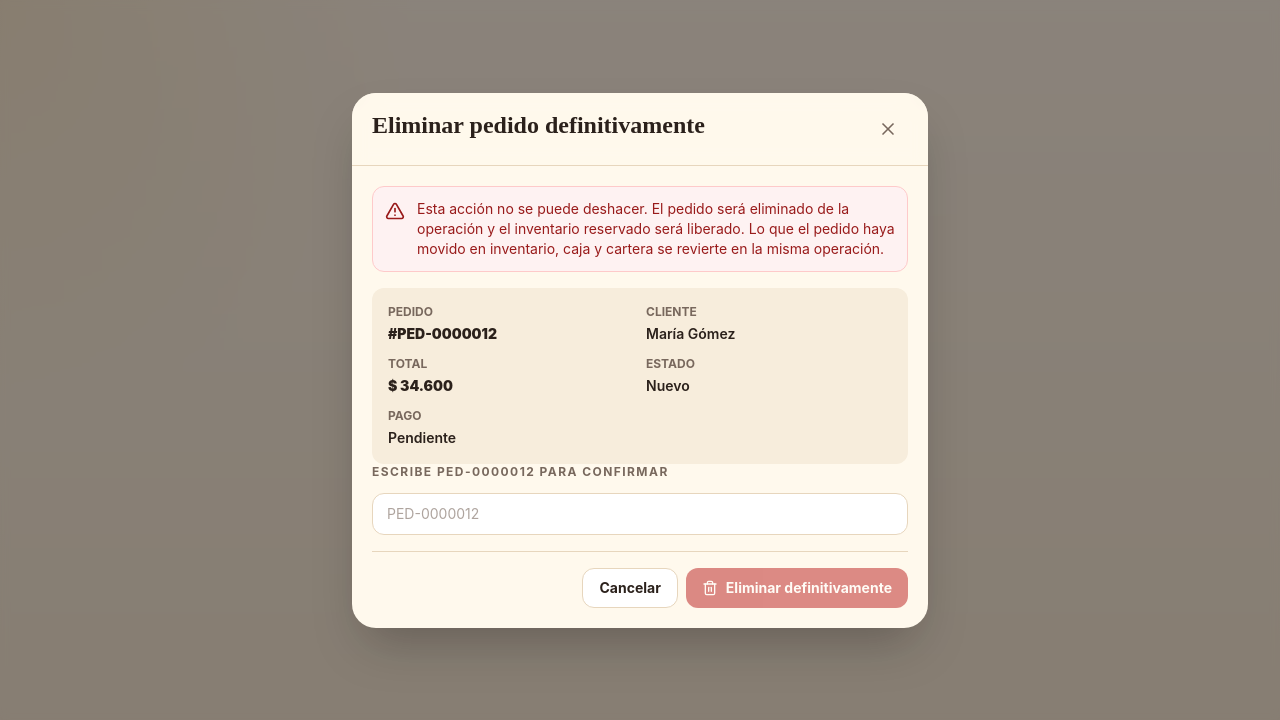
Test case: DeleteOrderModal › mantiene el botón deshabilitado mientras el texto no coincida
The image size is (1280, 720).
Expected: the button "Eliminar definitivamente" is disabled, [686,568,908,608]
Type "PED-000001" into the field labelled "Escribe PED-0000012 para confirmar" at (640, 514), box [372,492,908,534]
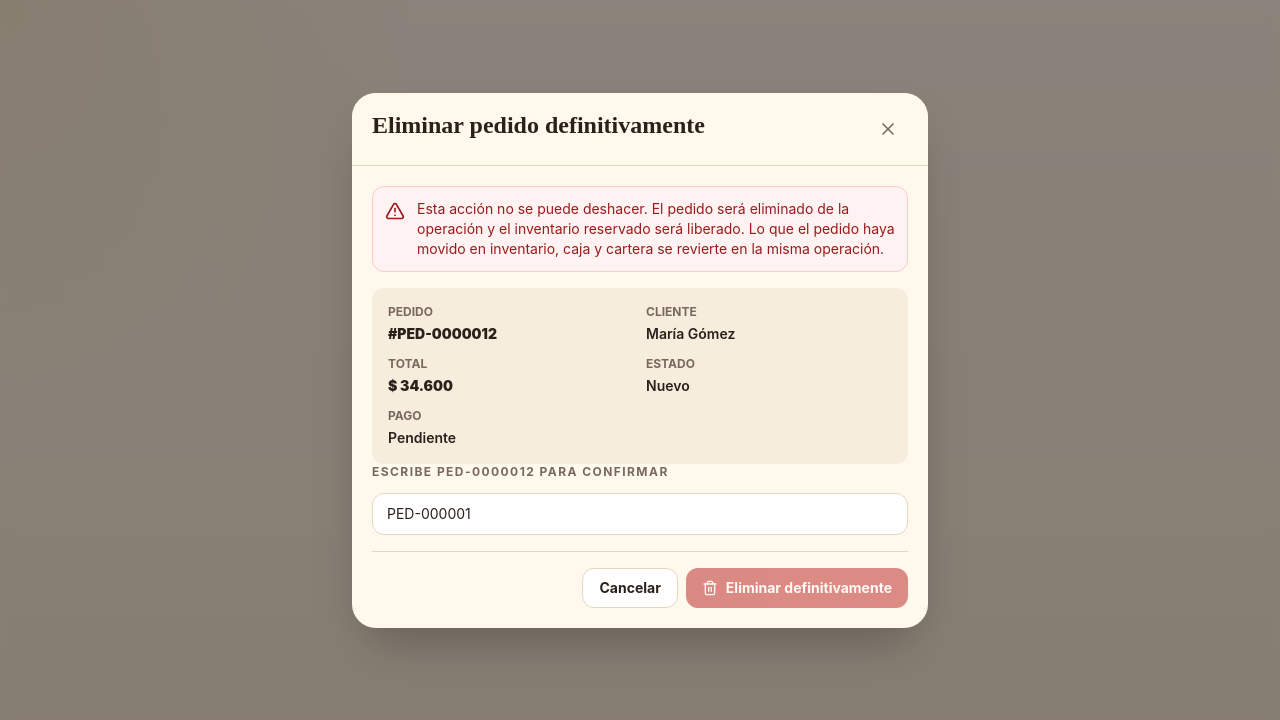
Expected: the button "Eliminar definitivamente" is disabled, [686,568,908,608]
Replace the text in the field labelled "Escribe PED-0000012 para confirmar" with "ped-0000012" at (640, 514), box [372,492,908,534]
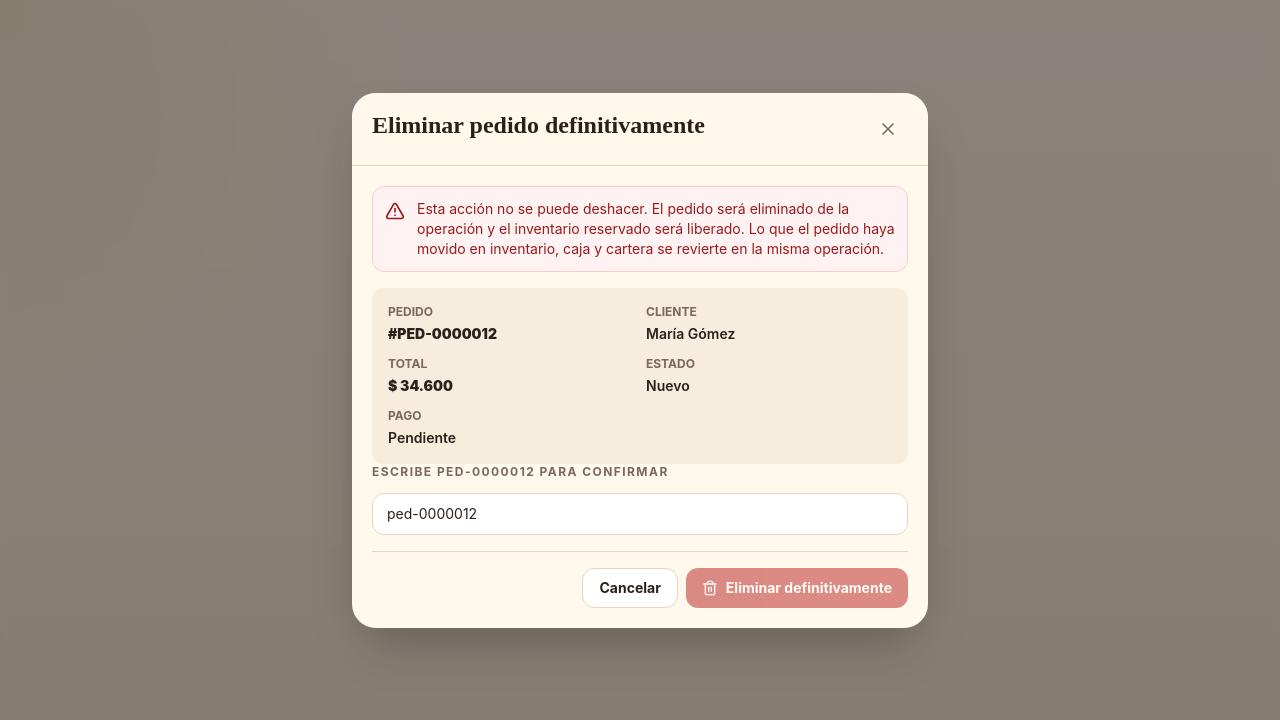
Expected: the button "Eliminar definitivamente" is disabled, [686,568,908,608]
Replace the text in the field labelled "Escribe PED-0000012 para confirmar" with "PED-0000013" at (640, 514), box [372,492,908,534]
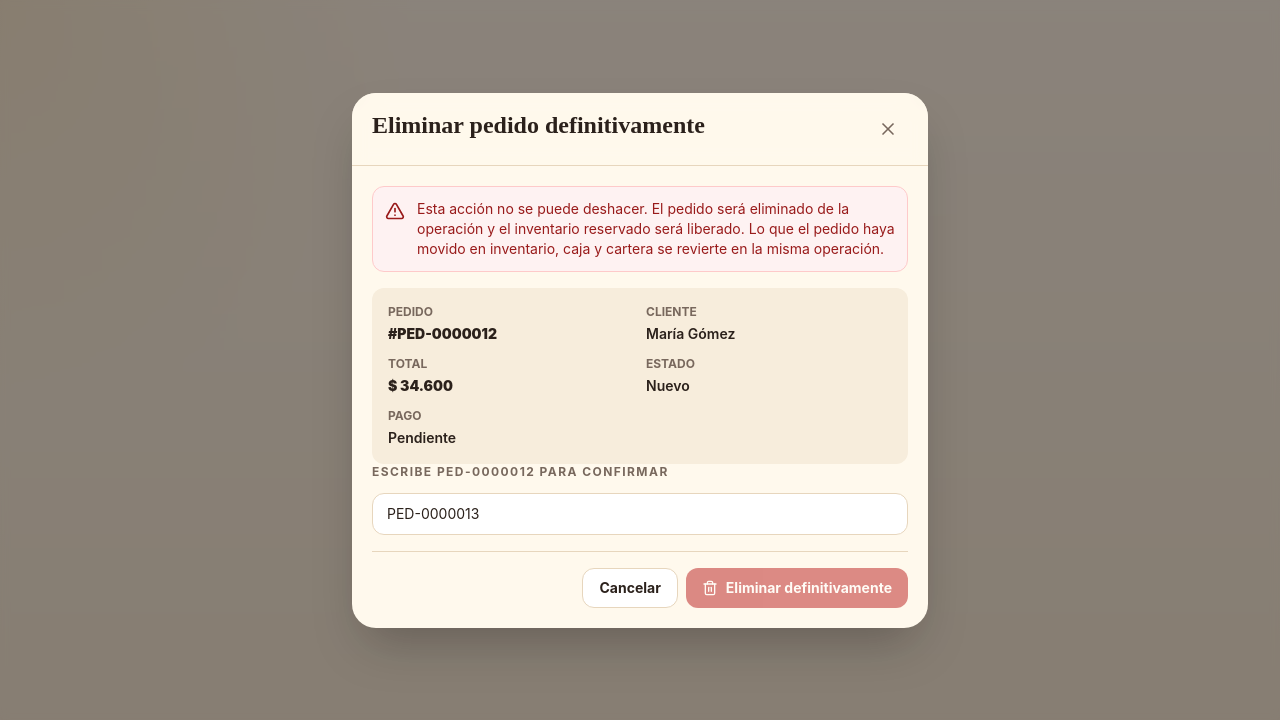
Expected: the button "Eliminar definitivamente" is disabled, [686,568,908,608]
Replace the text in the field labelled "Escribe PED-0000012 para confirmar" with "PED-0000012" at (640, 514), box [372,492,908,534]
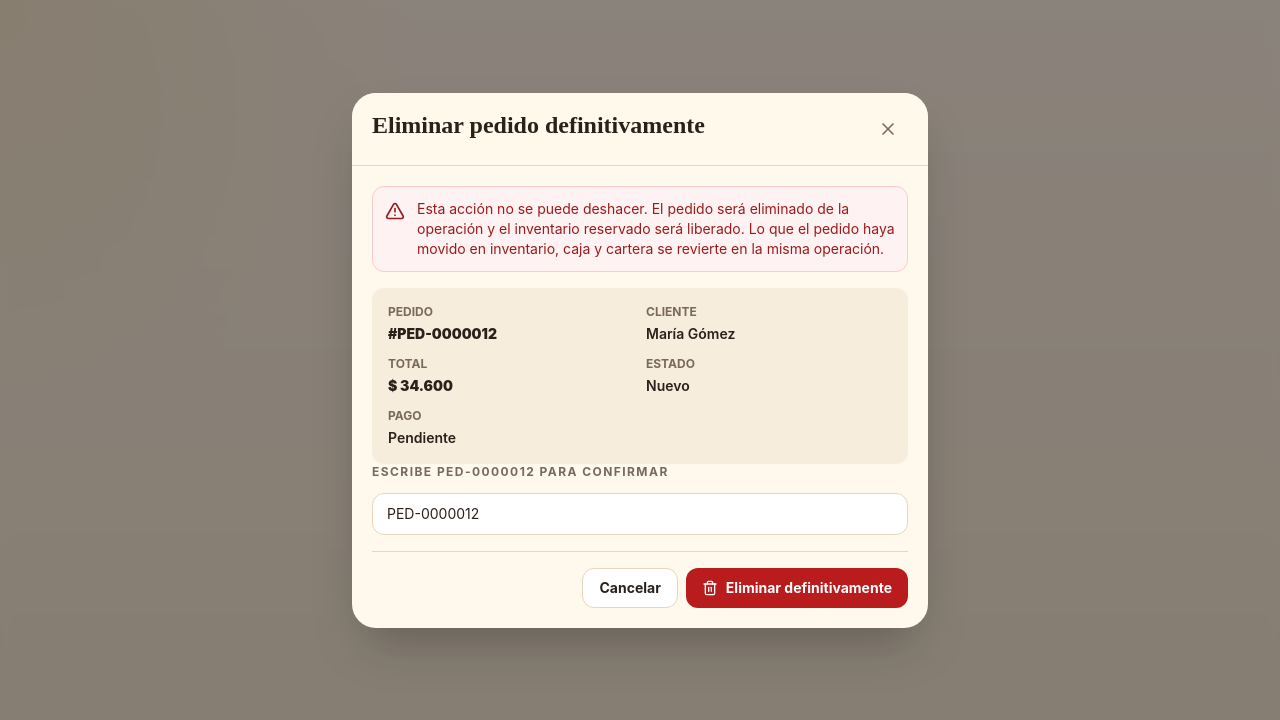
Now the button "Eliminar definitivamente" is enabled, box [686,568,908,608]
